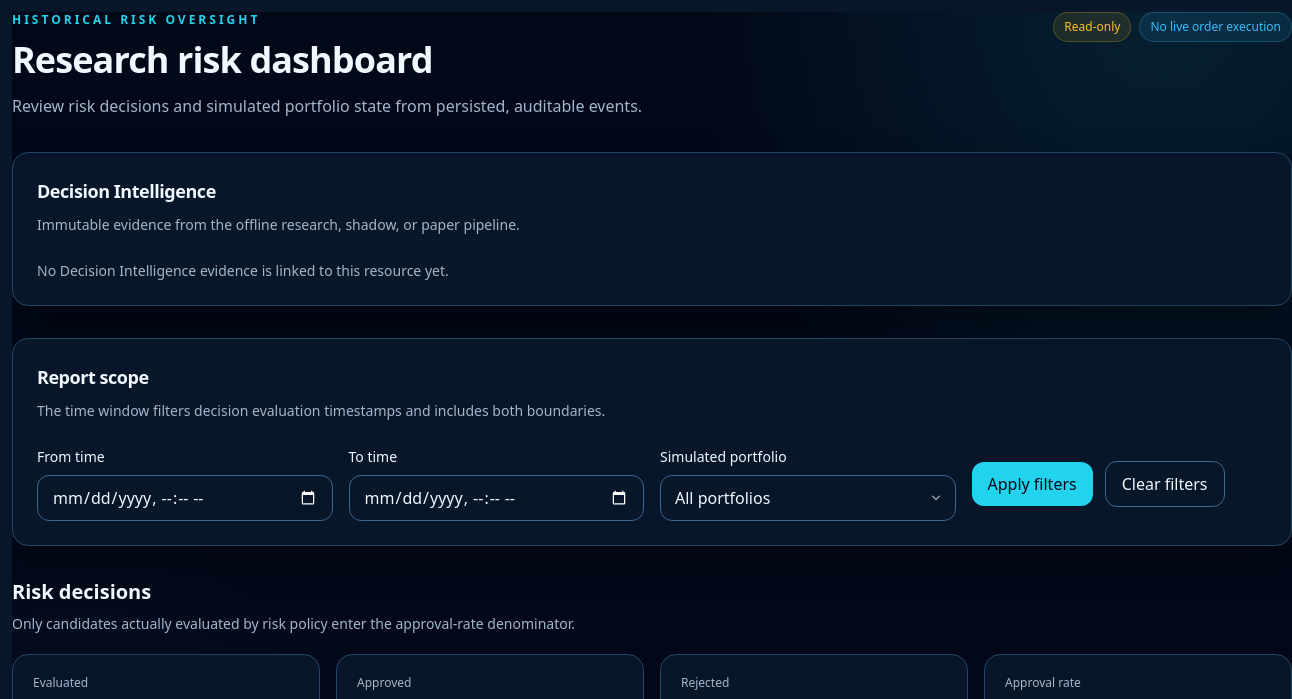
Test: RiskDashboard › rejects an inverted time range before requesting the API
Type "2026-08-27T12:00" into the field labelled "From time" at (185, 498), box [37,475,332,521]
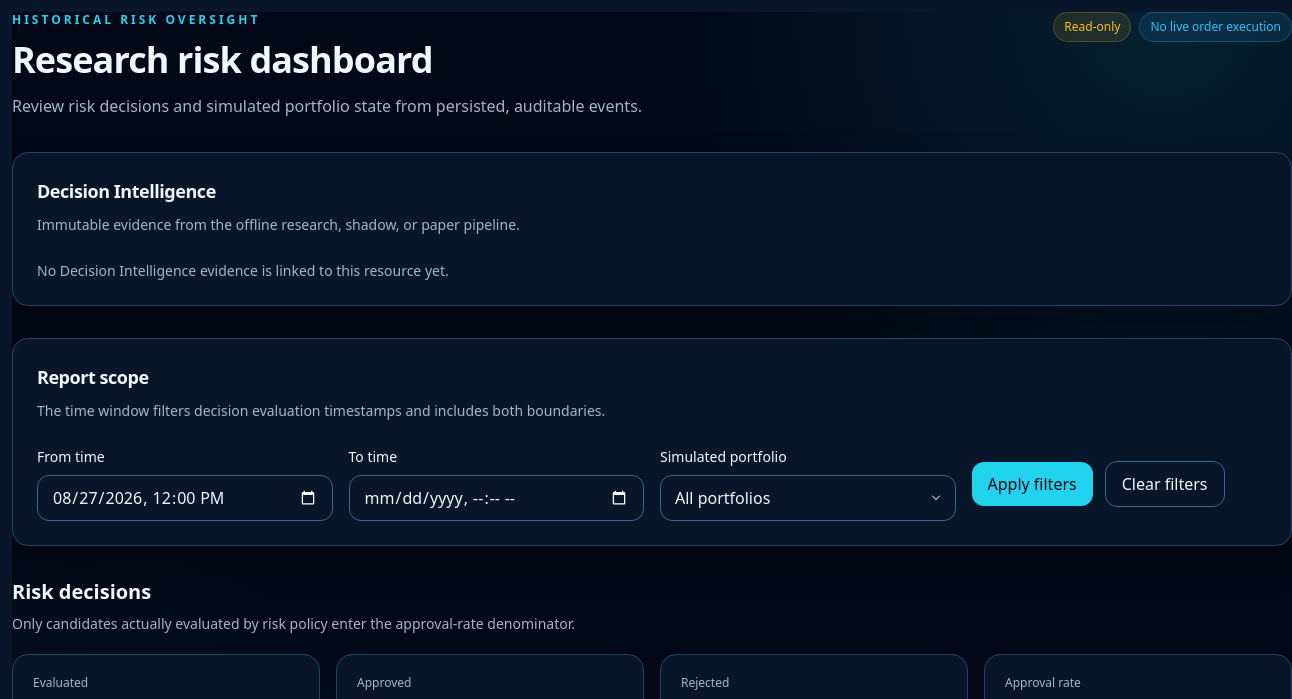
Type "2026-08-26T12:00" into the field labelled "To time" at (496, 498), box [348,475,644,521]
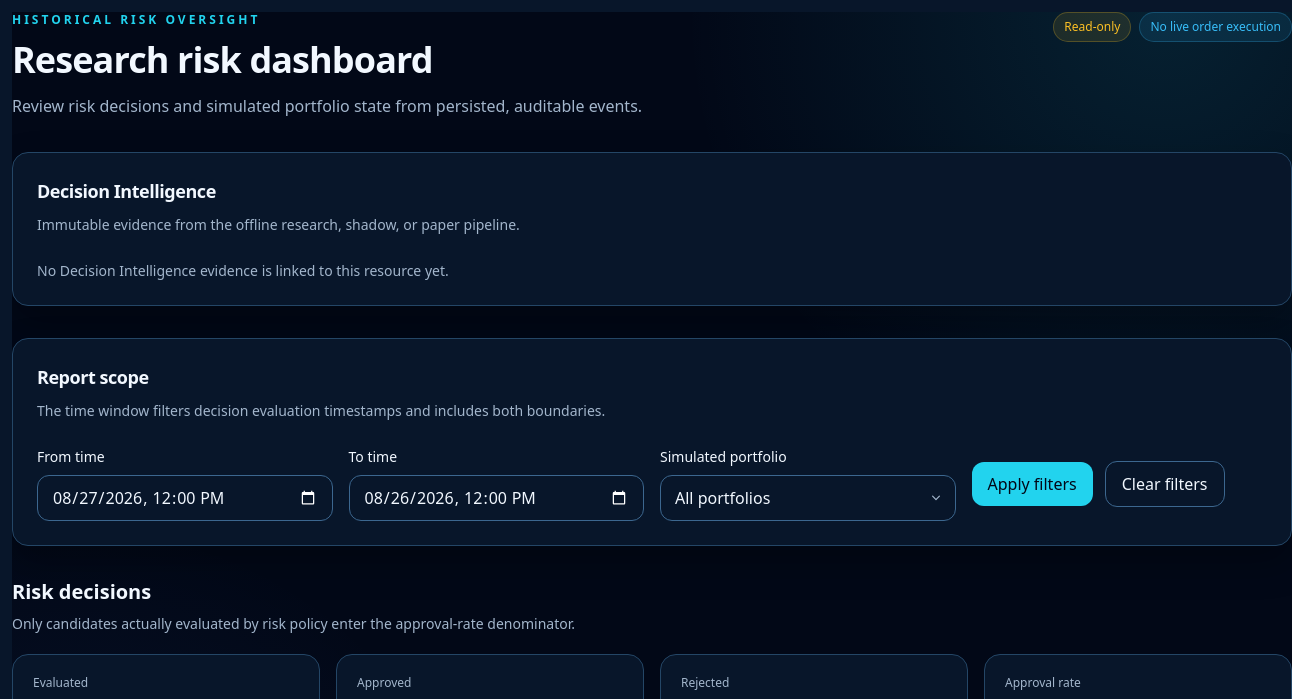
Click the button "Apply filters" at (1032, 484), box [972,462,1093,506]
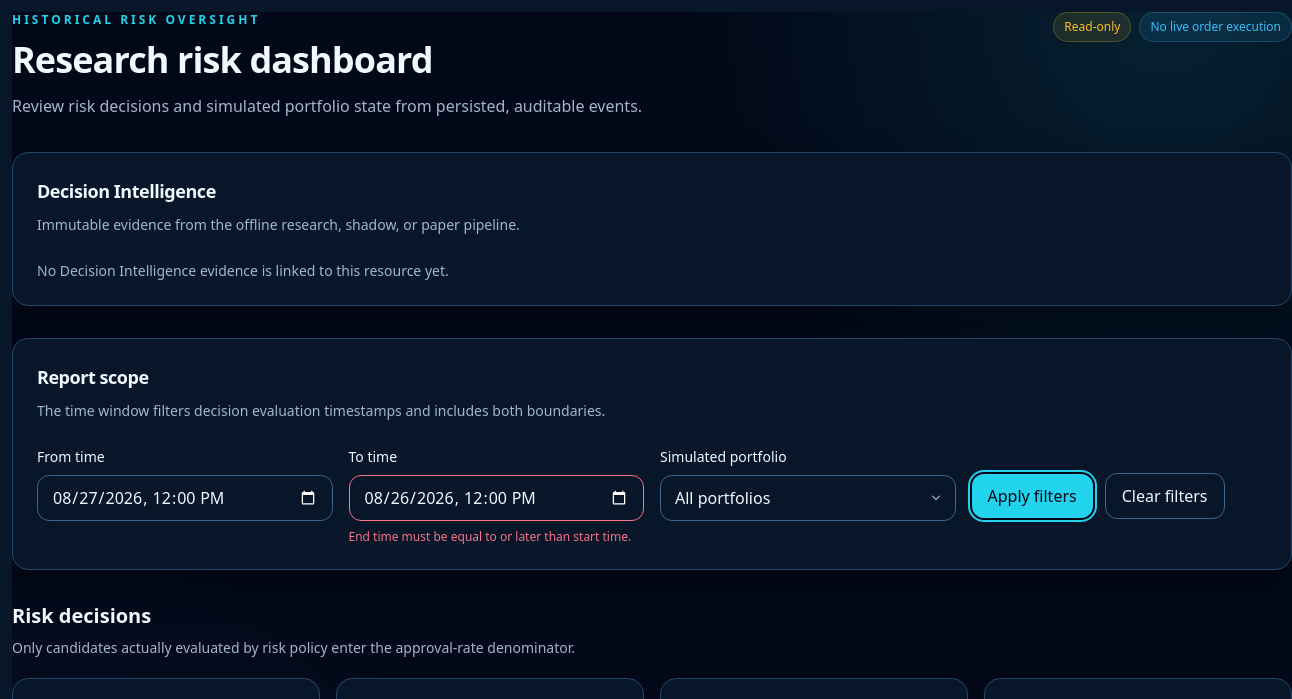
Check: the message reads "End time must be equal to or later than start time.", box [348,528,631,545]
